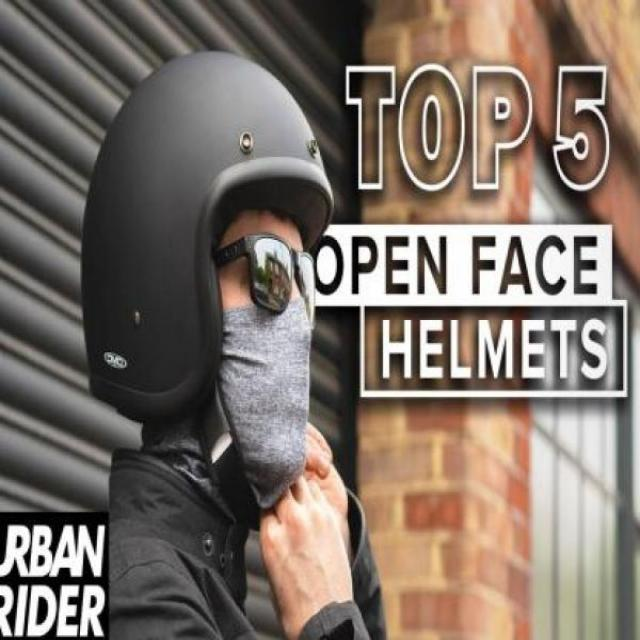Helmet: (86, 51, 324, 446)
